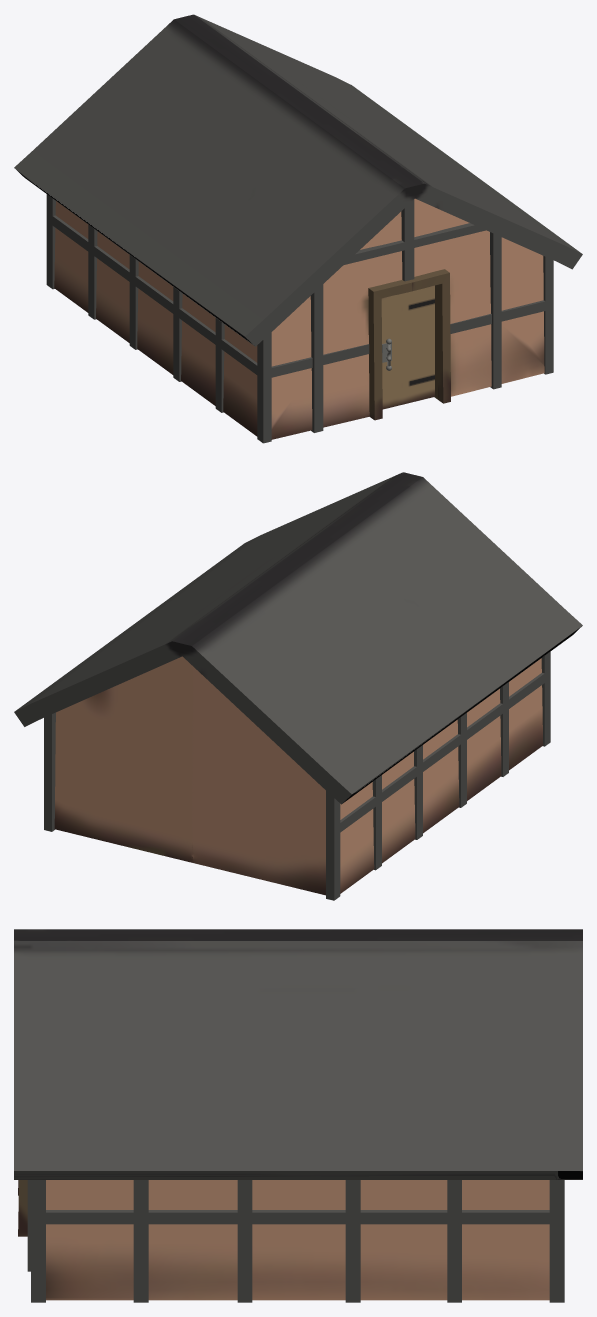
File: house1.fbx
The picture shows the model from 3 angles, top to bottom: view 1: azimuth 30°, elevation 25°; view 2: azimuth 150°, elevation 25°; view 3: azimuth 270°, elevation 25°; orthographic projection. The views are drawn at different scales.
Visible parts, largest first — view 1: roof1, house, wood, door, door_deco; view 2: roof1, house, wood; view 3: roof1, house, wood, door_deco.
Part boxes in pixels (x1,y1,x2,y2): roof1: (14, 14, 582, 346); house: (54, 198, 544, 439); wood: (46, 194, 553, 443); door: (381, 285, 434, 409); door_deco: (368, 269, 450, 420); roof1: (14, 472, 582, 804); house: (54, 656, 543, 895); wood: (44, 651, 550, 900); roof1: (14, 929, 582, 1179); house: (46, 1180, 549, 1300); wood: (27, 1180, 564, 1302); door_deco: (18, 1180, 27, 1236).
Size of the model in its own units: 5504 by 3550 by 6515.
